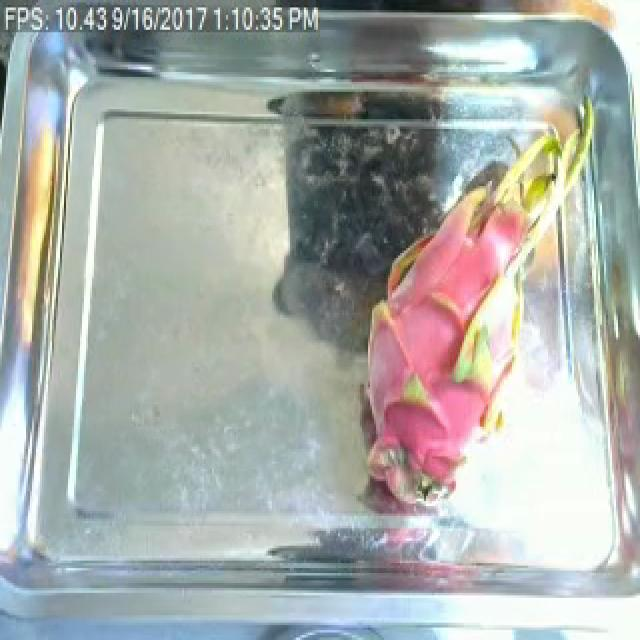fruit: (348, 112, 598, 526)
